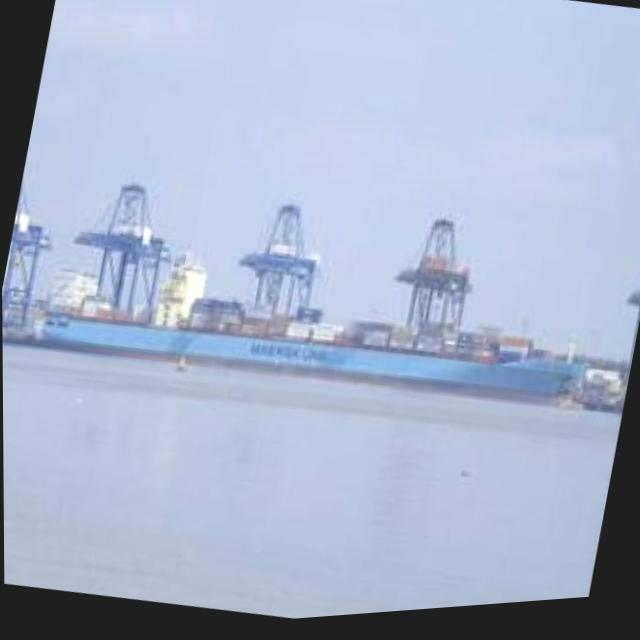ship2: (43, 268, 593, 409)
